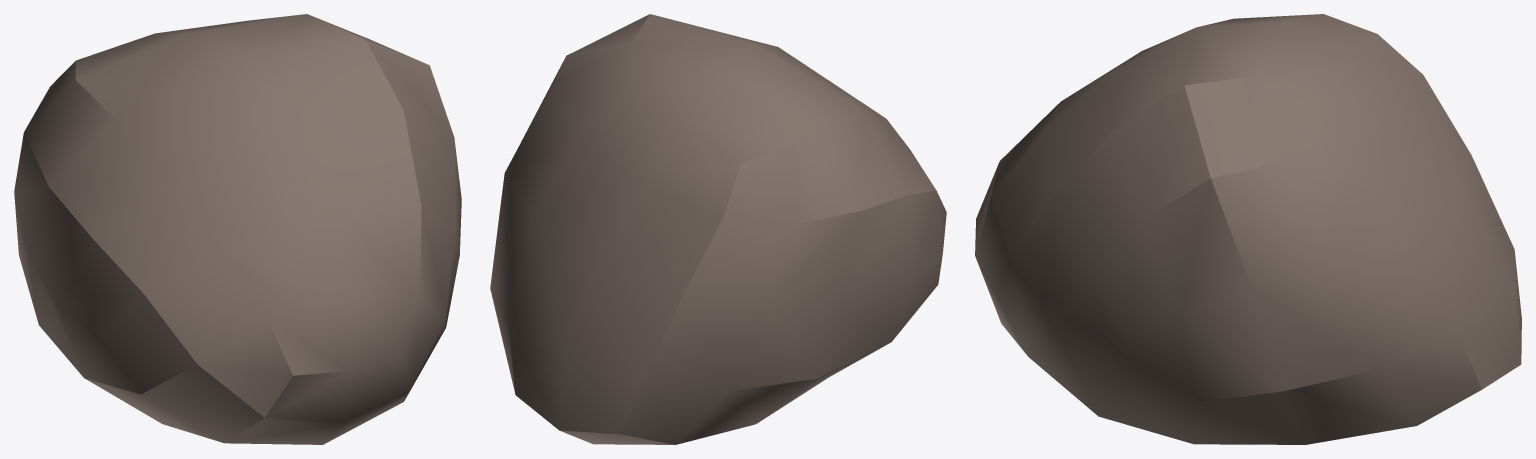
The model's file is BigRock.fbx.
The picture shows the model from 3 angles, left to right: view 1: azimuth 30°, elevation 25°; view 2: azimuth 150°, elevation 25°; view 3: azimuth 270°, elevation 25°; orthographic projection. The views are drawn at different scales.
Visible parts, largest first — view 1: Cube.002; view 2: Cube.002; view 3: Cube.002.
Part boxes in pixels (box(x1,y1,x2,y2)): Cube.002: box(14, 14, 461, 444); Cube.002: box(490, 14, 946, 444); Cube.002: box(975, 14, 1521, 444).
Bounding box in the file's own units: 5.02 × 4.35 × 5.84.
